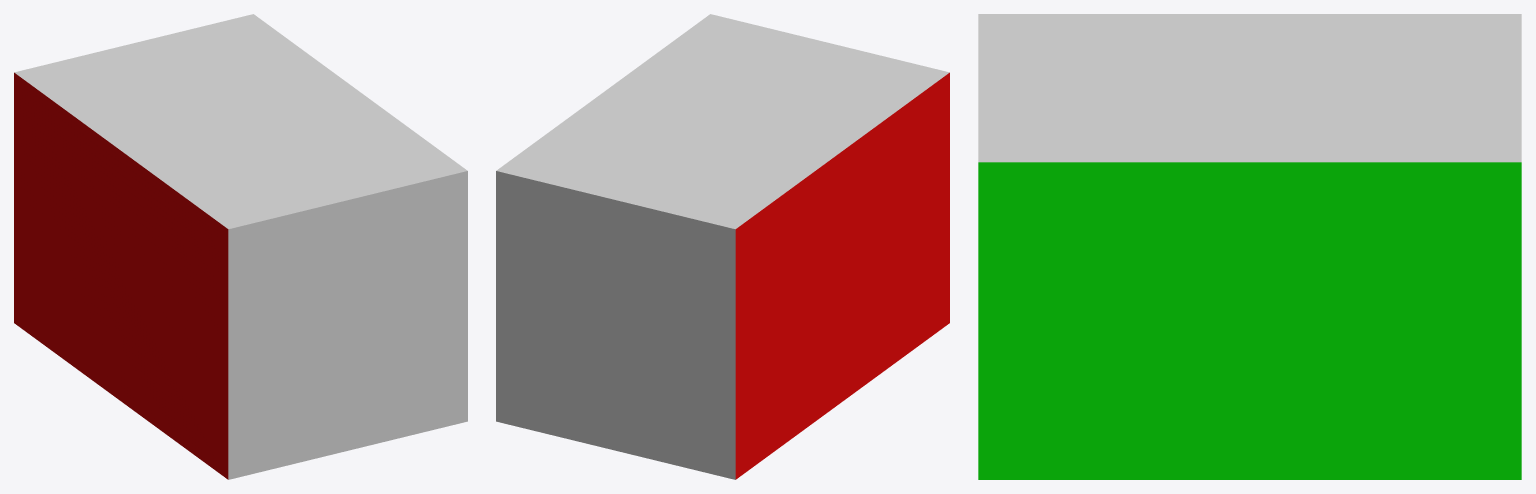
Rendered from Tor.obj.
3 renders of one model, left to right at view 1: azimuth 30°, elevation 25°; view 2: azimuth 150°, elevation 25°; view 3: azimuth 270°, elevation 25°, orthographic. The views are drawn at different scales.
Visible parts, largest first — view 1: Main; view 2: Main; view 3: Main.
Part boxes in pixels (x1,y1,x2,y2): Main: (14,14,467,479); Main: (496,14,949,479); Main: (978,14,1521,479).
Size of the model in its own units: 20 by 20 by 31.
